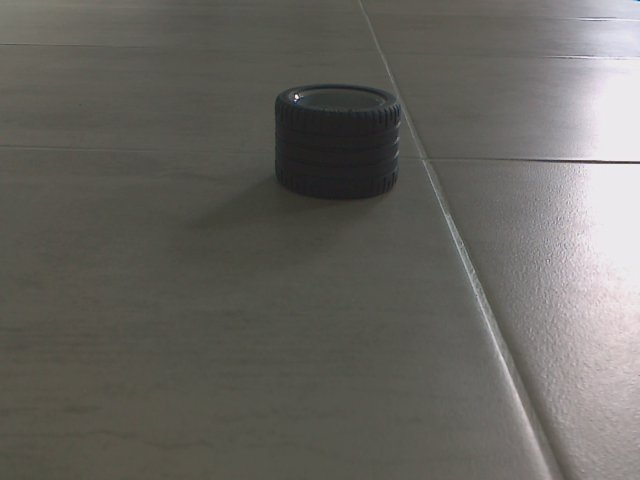Rad: (272, 80, 406, 205)
